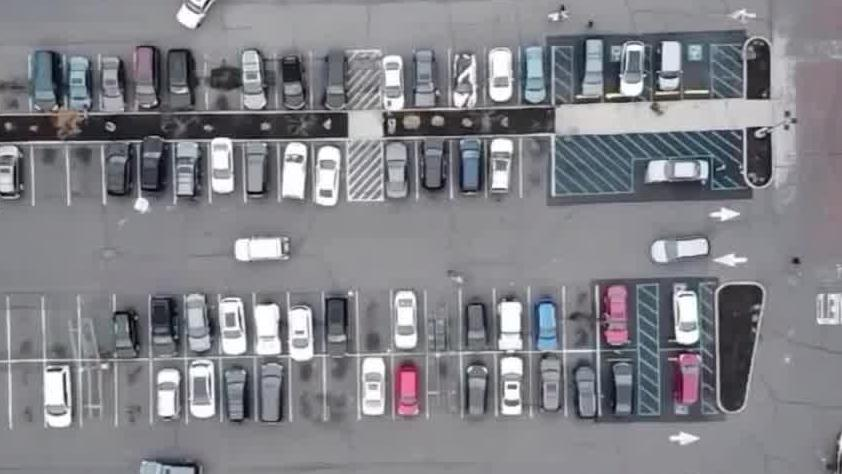car: (353, 357, 391, 424), (40, 364, 75, 434), (234, 231, 293, 271), (25, 54, 61, 119), (163, 50, 198, 115), (311, 148, 346, 213), (640, 157, 711, 189), (130, 46, 161, 115), (98, 148, 134, 207), (496, 358, 529, 422), (253, 362, 285, 428), (180, 362, 214, 424), (650, 234, 710, 269), (484, 137, 517, 200), (135, 140, 168, 203), (219, 367, 251, 430), (320, 291, 351, 356), (319, 50, 350, 114), (276, 145, 309, 205), (281, 307, 315, 365), (145, 295, 176, 358), (151, 369, 182, 432), (241, 141, 273, 202), (601, 283, 631, 348), (391, 283, 420, 348), (240, 49, 268, 116), (460, 362, 491, 422), (390, 362, 421, 422), (250, 301, 282, 359), (612, 43, 645, 99), (216, 298, 246, 359), (382, 142, 411, 204), (419, 139, 449, 198), (457, 137, 486, 198), (492, 299, 523, 356), (482, 48, 511, 108), (409, 48, 438, 108), (569, 363, 597, 425), (652, 40, 683, 96), (170, 143, 199, 202), (674, 354, 703, 413), (577, 42, 606, 100), (62, 61, 91, 119), (108, 309, 138, 365), (607, 360, 634, 422), (671, 290, 699, 349), (520, 46, 547, 107), (280, 55, 306, 118), (378, 54, 405, 114), (185, 293, 210, 357), (447, 52, 475, 109), (534, 357, 561, 416), (206, 141, 232, 202), (532, 300, 561, 353), (168, 0, 216, 32), (99, 53, 124, 114), (0, 147, 25, 205), (138, 453, 202, 474), (462, 303, 486, 356)
